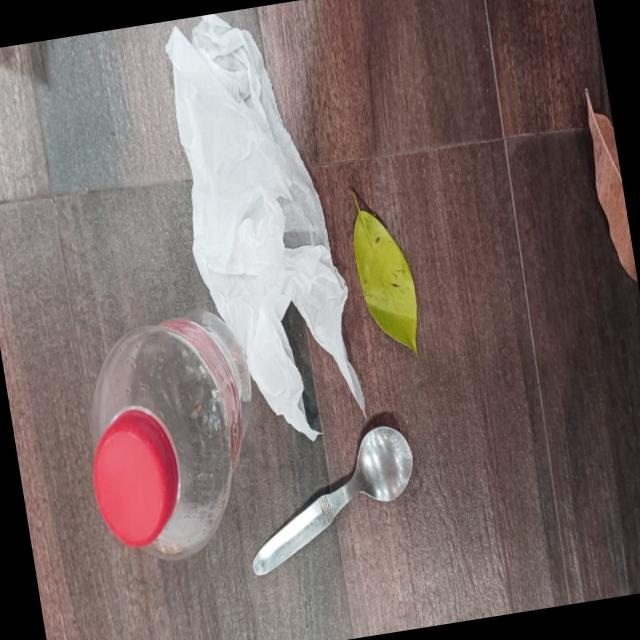Leaf-Bio: (341, 177, 431, 372)
Plastic-NonBio: (68, 306, 280, 574)
Steel-NonBio: (232, 414, 438, 586)
Tissue Paper-Bio: (155, 0, 371, 452)
